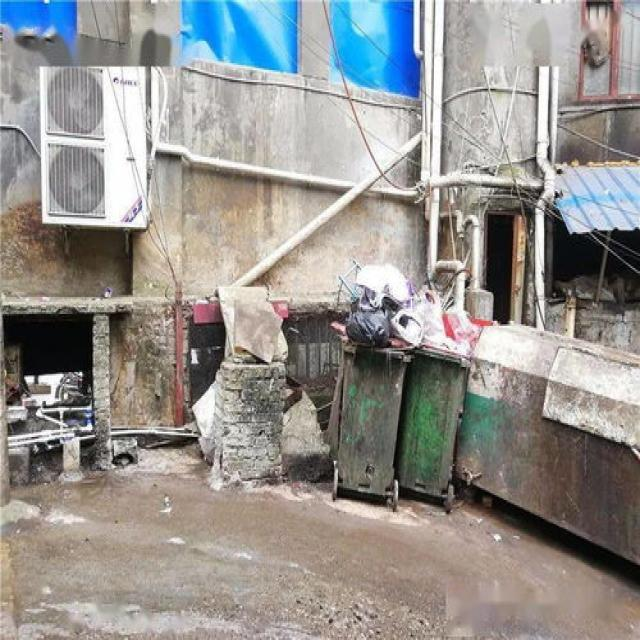overflow: (332, 261, 418, 497), (397, 297, 475, 497)
